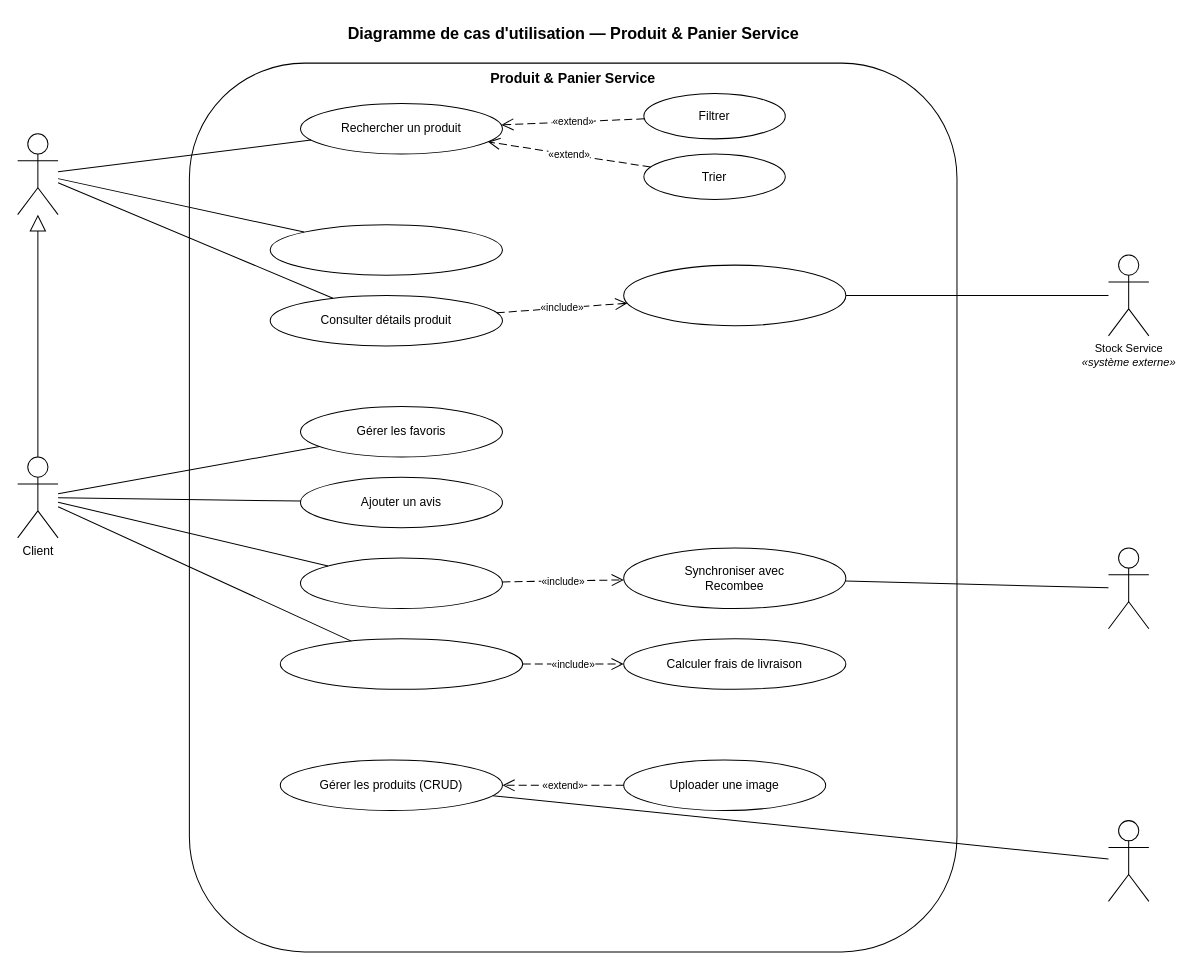
Some shapes in this 1193 by 970 pixel diagram are drawn without their labels. The shapes that lost their labels are listed below. From the top down, each one's box as (x1, y1, x2, y2) in pixels, then its label:
(17, 133, 58, 215): Visiteur
(269, 224, 502, 275): Consulter la page d'accueil
(623, 264, 846, 326): Récupérer les infos du stock
(299, 557, 502, 609): Gérer le panier
(1107, 547, 1149, 629): Recombee API «système externe»
(279, 638, 523, 689): Passer commande (Checkout)
(1107, 820, 1149, 901): Admin
